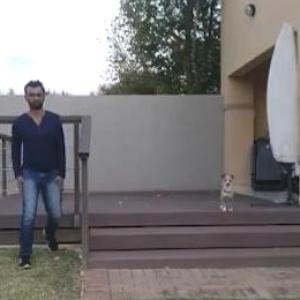follow: (9, 80, 65, 258)
